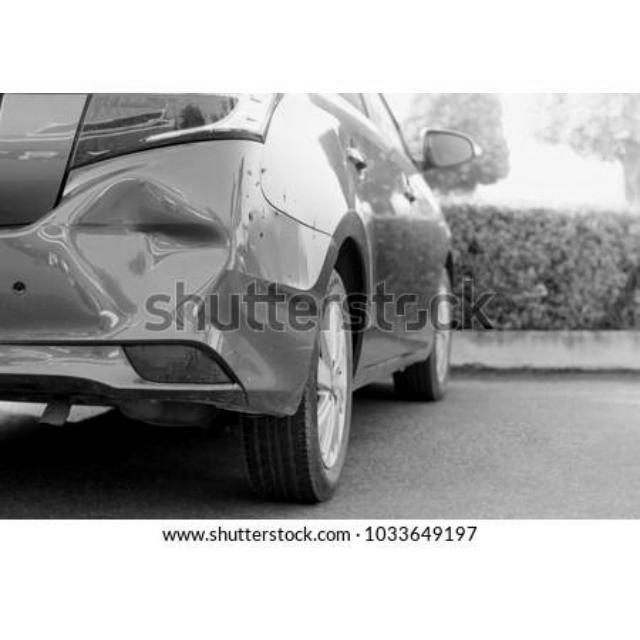rear-bumper-dent: (0, 164, 312, 412)
